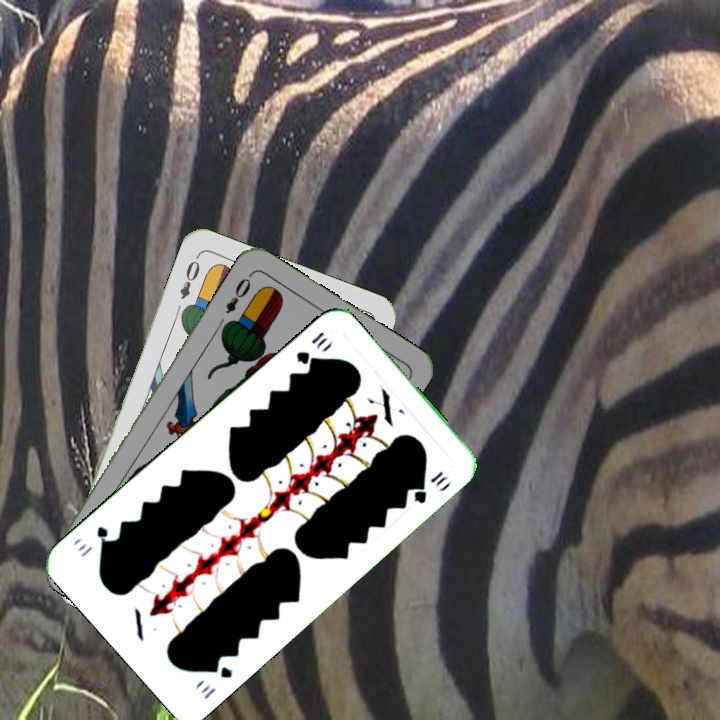EO: (221, 269, 255, 317), (175, 251, 203, 302)
G10: (196, 658, 236, 702), (292, 327, 329, 368)
